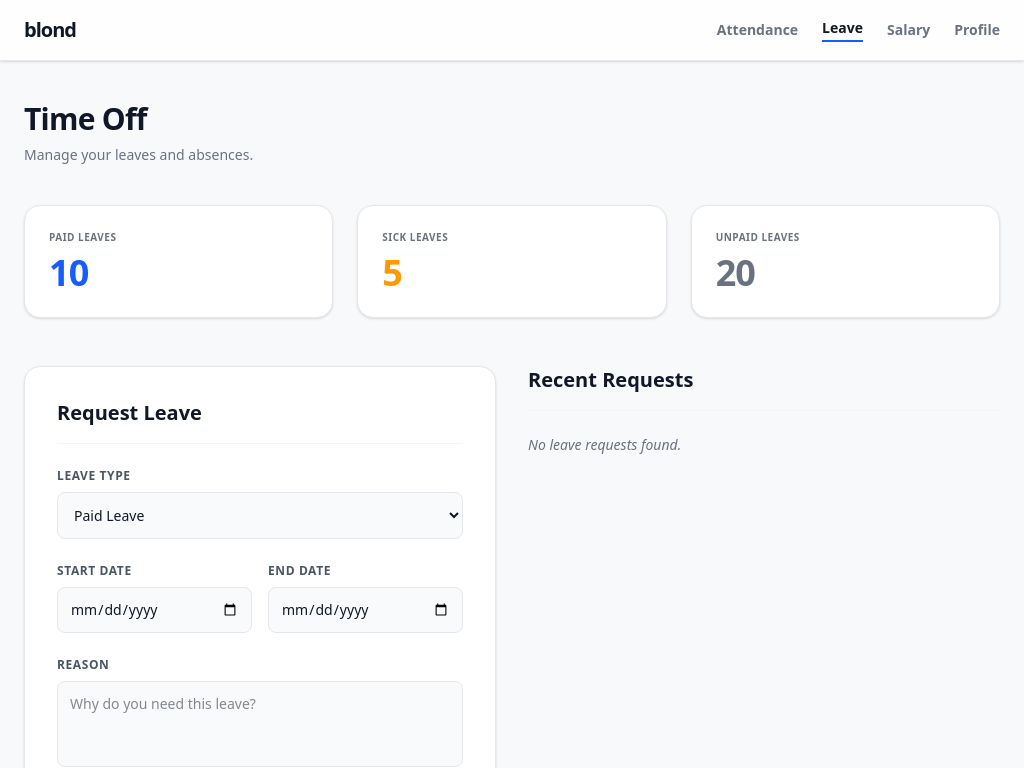
Test case: LeaveManagement › displays error on failed submission
Select "Paid Leave" in the dropdown labelled "Leave Type". click: (260, 516)
box: [57,492,463,539]
Type "2026-09-01" into the date field labelled "Start Date". click: (154, 610)
box: [57,587,252,633]
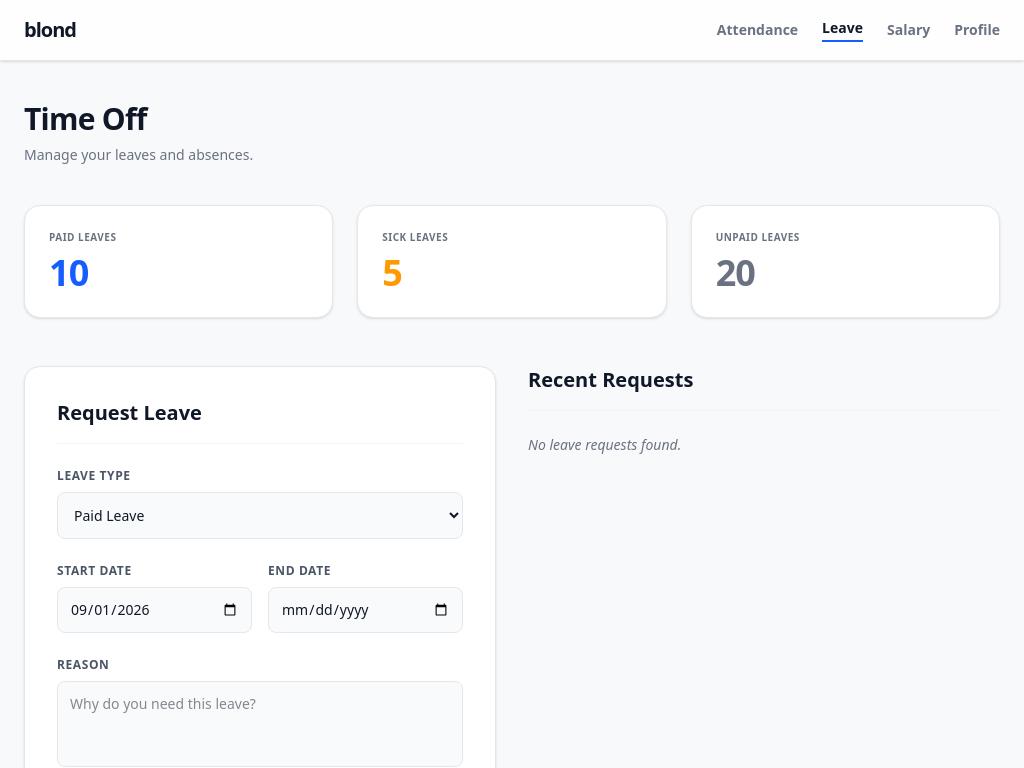
Type "2026-09-20" into the date field labelled "End Date". click: (366, 610)
box: [268,587,463,633]
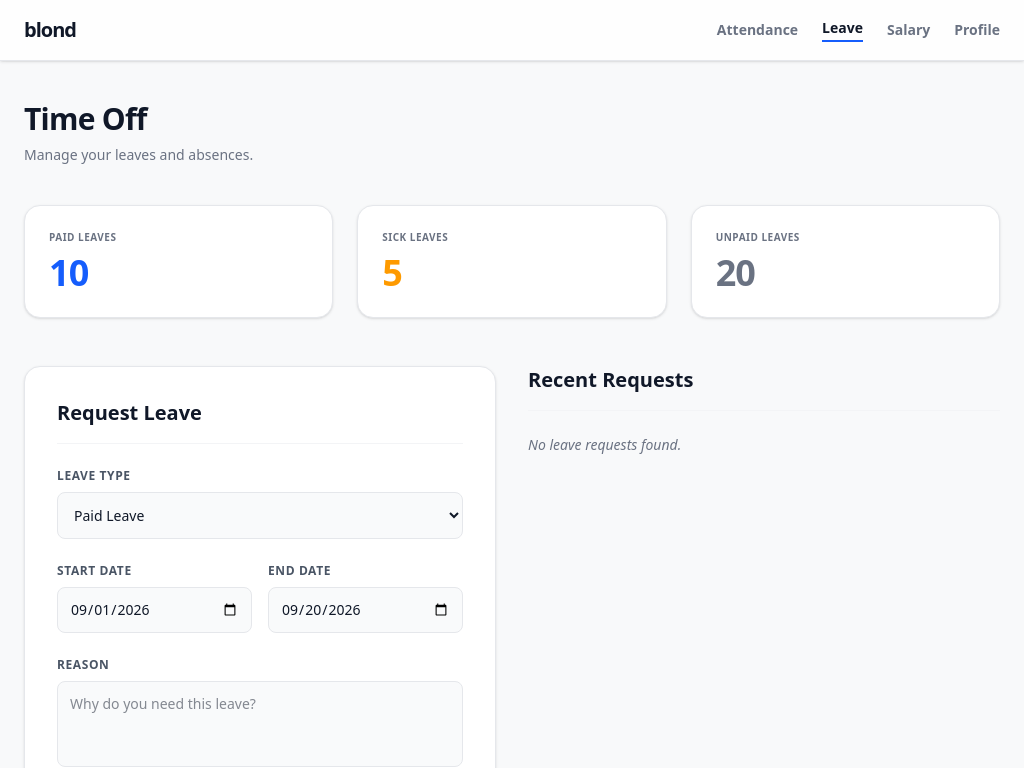
Type "Long Trip" into the text box labelled "Reason". click: (260, 724)
box: [57,681,463,767]
(page scrolled)
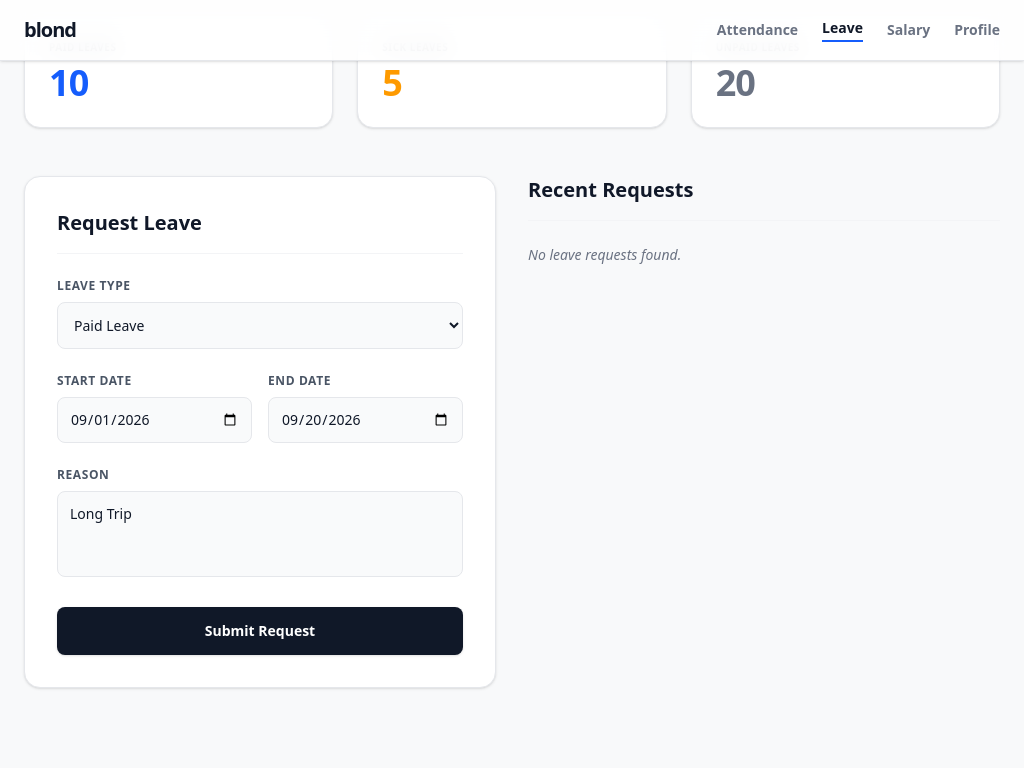
Click the button "Submit Request". click: click(260, 631)
box: [57,607,463,655]
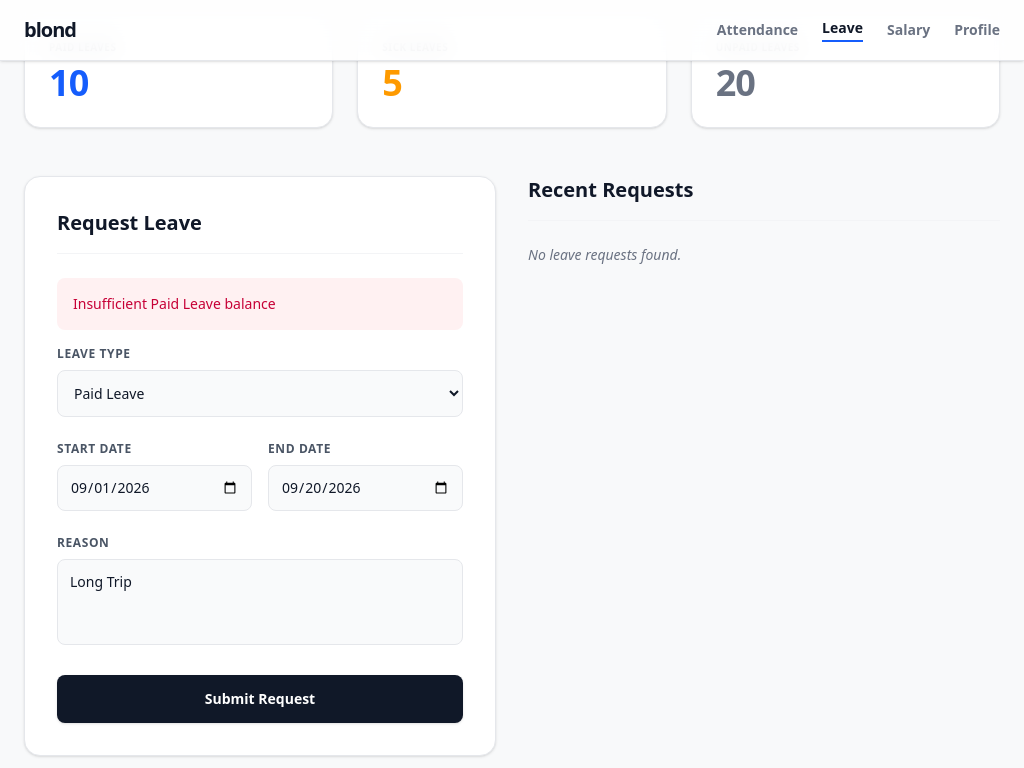
Now the text "Insufficient Paid Leave balance" is shown, box [57,278,463,330]
